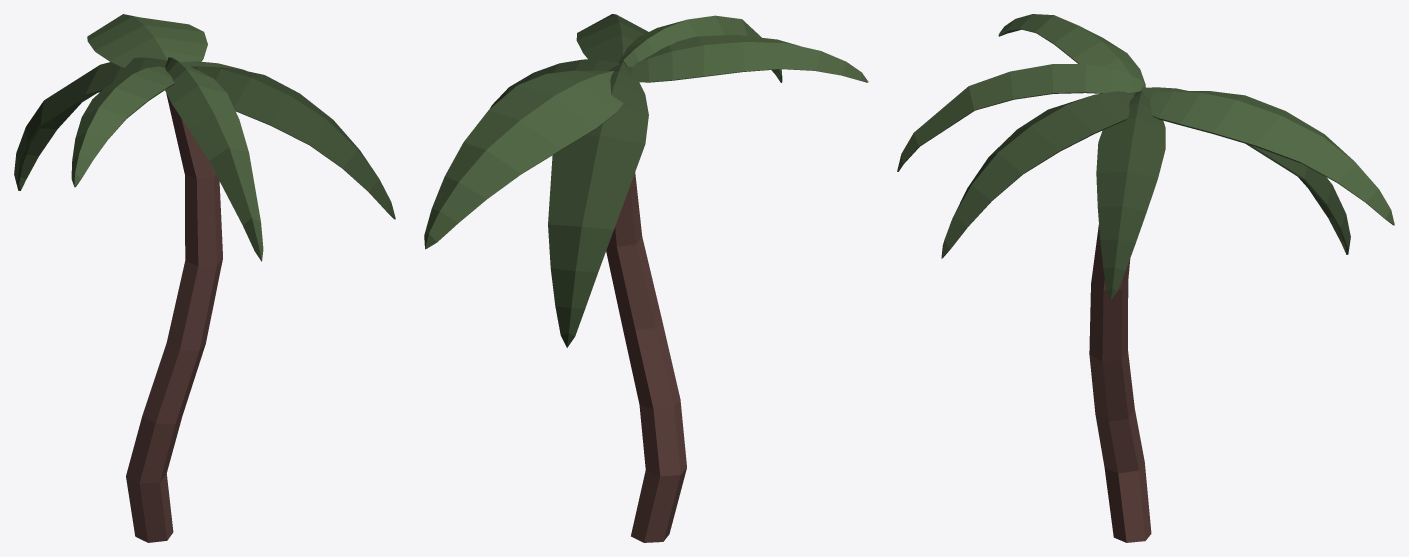
File: PalmTree_2.gltf
3 renders of one model, left to right at view 1: azimuth 30°, elevation 25°; view 2: azimuth 150°, elevation 25°; view 3: azimuth 270°, elevation 25°, orthographic. The views are drawn at different scales.
Parts seen in each view (by area): view 1: PalmTree_2; view 2: PalmTree_2; view 3: PalmTree_2.
Boxes of the visible parts, <box> form: PalmTree_2: <box>14,14,395,542</box>; PalmTree_2: <box>424,14,868,542</box>; PalmTree_2: <box>897,14,1394,542</box>.
Bounding box in the file's own units: 1.09 × 1.52 × 1.44.
